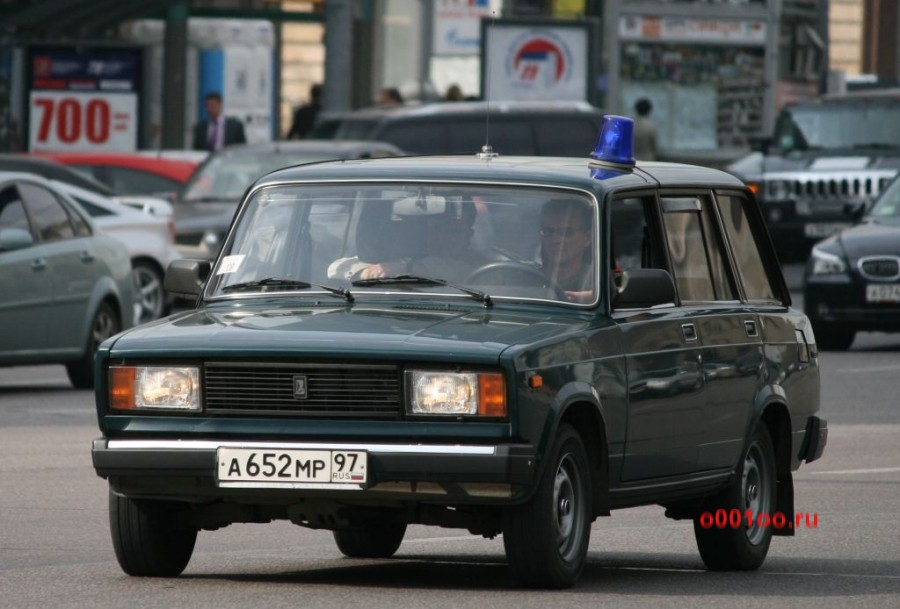number_plate: (214, 442, 377, 492)
